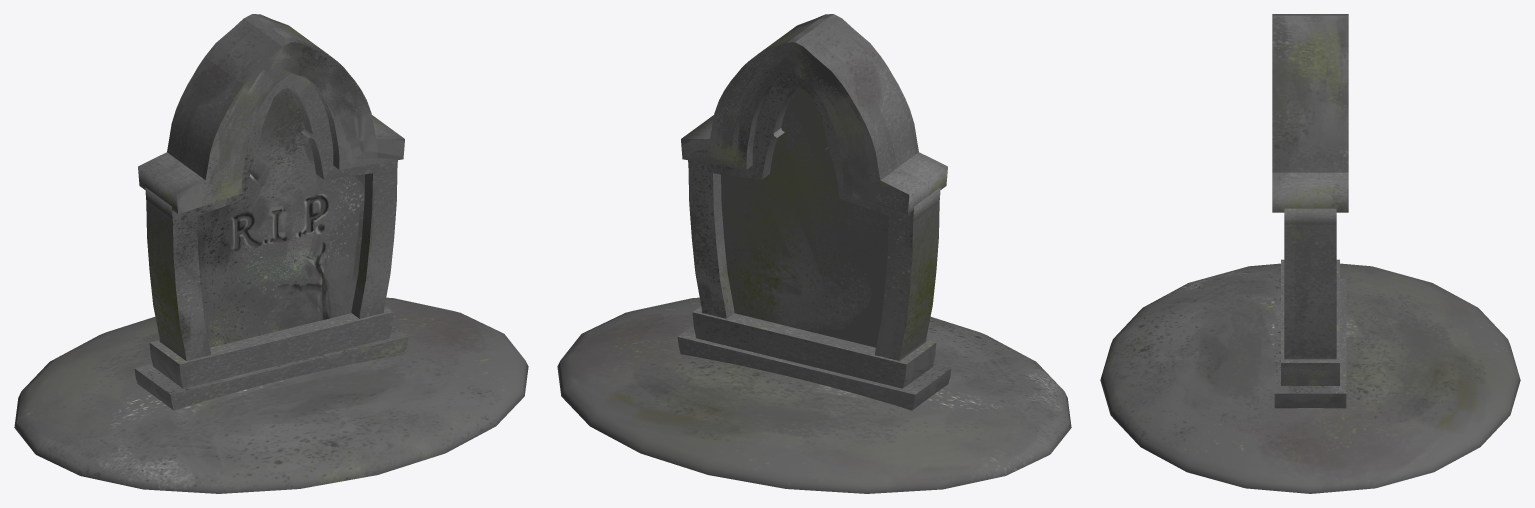
The model's file is item etc - gravestone.fbx.
3 views of the same model, side by side, from view 1: azimuth 30°, elevation 25°; view 2: azimuth 150°, elevation 25°; view 3: azimuth 270°, elevation 25° (orthographic).
Parts seen in each view (by area): view 1: pSphere1, pCube1, polySurface3, polySurface2, pCube4, pasted__pCube4; view 2: pSphere1, pCube1, polySurface3, polySurface2, pCube4, pasted__pCube4; view 3: pSphere1, polySurface3, polySurface2, pasted__pCube4, pCube4.
Boxes of the visible parts, bbox=[...] form: pSphere1: bbox=[14, 297, 528, 493]; pCube1: bbox=[197, 88, 364, 347]; polySurface3: bbox=[138, 14, 404, 213]; polySurface2: bbox=[145, 73, 397, 360]; pCube4: bbox=[149, 306, 393, 388]; pasted__pCube4: bbox=[134, 325, 408, 410]; pSphere1: bbox=[557, 297, 1071, 493]; pCube1: bbox=[721, 88, 888, 347]; polySurface3: bbox=[681, 14, 947, 213]; polySurface2: bbox=[688, 73, 940, 360]; pCube4: bbox=[692, 306, 936, 388]; pasted__pCube4: bbox=[677, 325, 951, 410]; pSphere1: bbox=[1100, 263, 1520, 493]; polySurface3: bbox=[1272, 14, 1348, 212]; polySurface2: bbox=[1284, 208, 1336, 359]; pasted__pCube4: bbox=[1274, 279, 1346, 408]; pCube4: bbox=[1281, 259, 1339, 385].
Bounding box in the file's own units: 10.25 × 7.67 × 8.01.
1 material, 1 textured.
